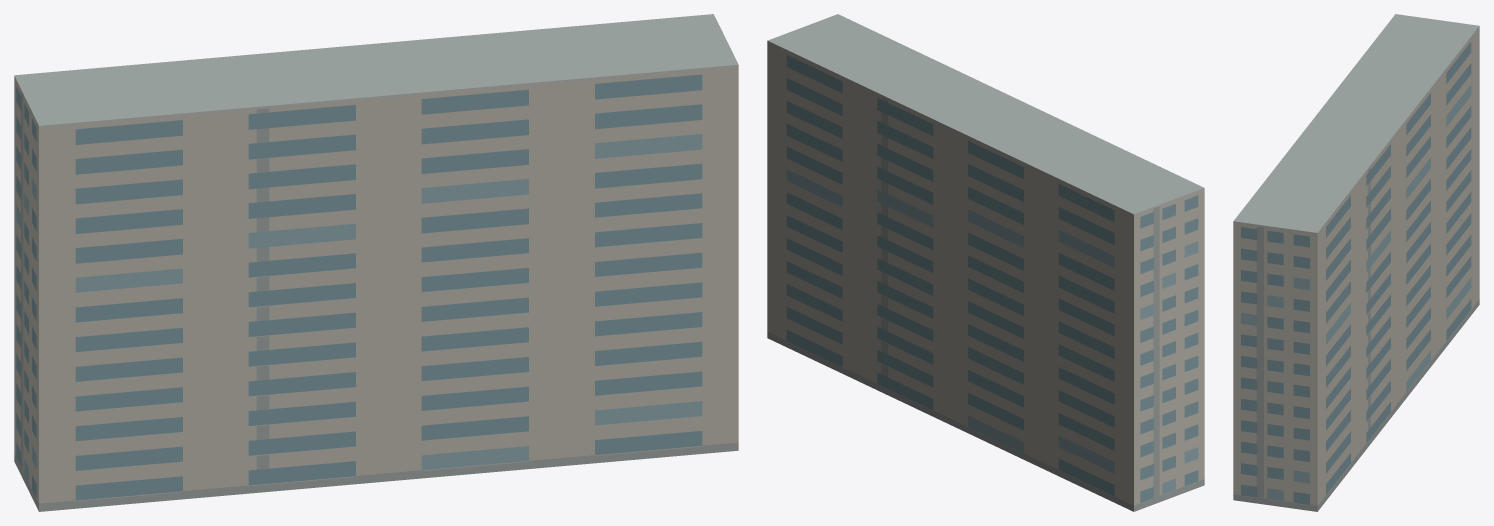
File: residential-c13502e0-59c8-4bb2-b9da-f5cd5f14d8e0.glb
3 renders of one model, left to right at view 1: azimuth 30°, elevation 25°; view 2: azimuth 150°, elevation 25°; view 3: azimuth 270°, elevation 25°, orthographic. The views are drawn at different scales.
Visible parts, largest first — view 1: residential-c13502e0-59c8-4bb2-b9da-f5cd5f14d8e0.tmp; view 2: residential-c13502e0-59c8-4bb2-b9da-f5cd5f14d8e0.tmp; view 3: residential-c13502e0-59c8-4bb2-b9da-f5cd5f14d8e0.tmp.
Boxes of the visible parts, x1,y1,x2,y2 form: residential-c13502e0-59c8-4bb2-b9da-f5cd5f14d8e0.tmp: [14, 14, 738, 511]; residential-c13502e0-59c8-4bb2-b9da-f5cd5f14d8e0.tmp: [767, 14, 1204, 511]; residential-c13502e0-59c8-4bb2-b9da-f5cd5f14d8e0.tmp: [1233, 14, 1479, 511].
Bounding box in the file's own units: 66.74 × 39.65 × 31.73.
